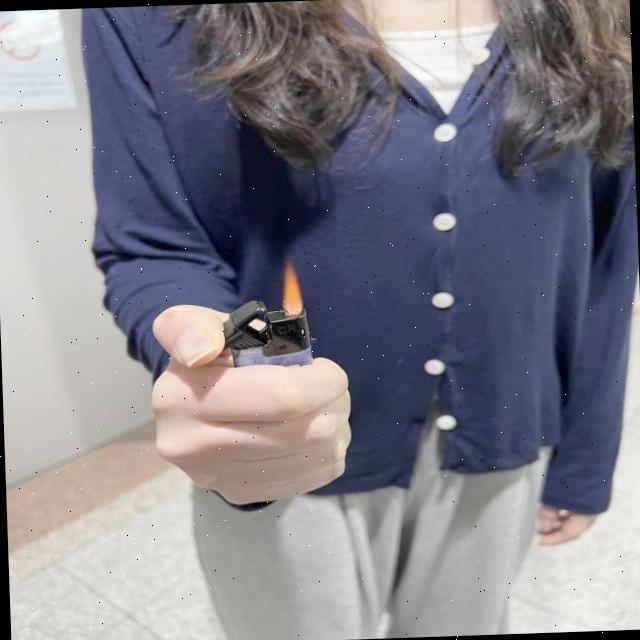fire: (278, 266, 306, 316)
